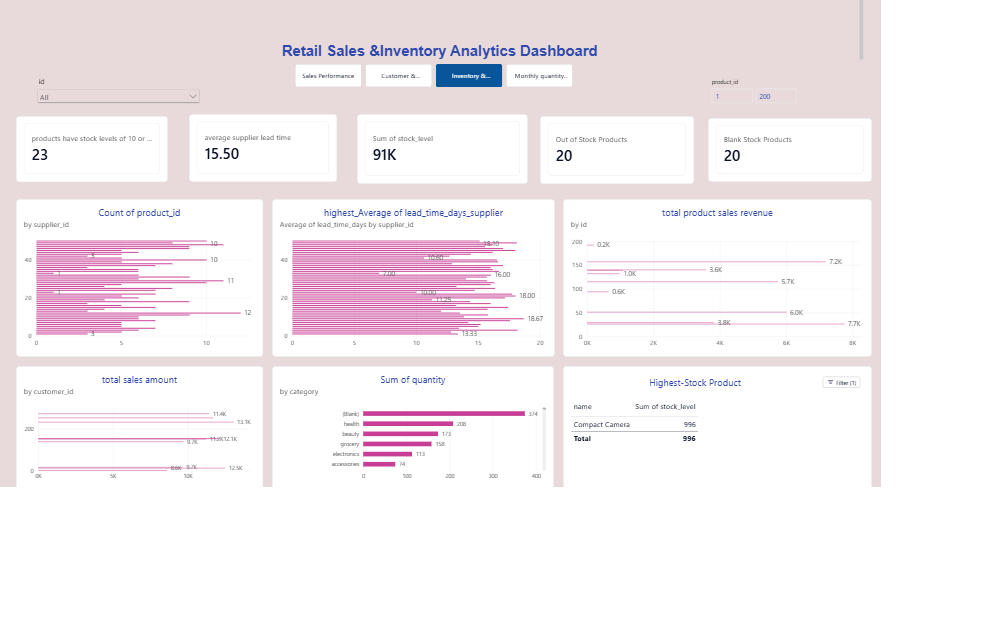

The dashboard page shown, as its layout file describes it:
{"tool":"powerbi","page":{"name":"Inventory & Supplier Performance:","canvas":[1920,1080],"ordinal":2},"visuals":[{"type":"textbox","box":[36.7,0,1829.5,159.8],"z":0},{"type":"clusteredBarChart","fields":{"Category":["Product_supplier.supplier_id"],"Y":["CountNonNull(Product_supplier.product_id)"]},"box":[36.7,451.4,533.5,341.3],"z":1000},{"type":"clusteredBarChart","title":"highest_Average of lead_time_days_supplier","fields":{"Category":["Product_supplier.supplier_id"],"Y":["Avg(Product_supplier.lead_time_days)"]},"box":[589.7,451.4,611.3,341.3],"z":2000},{"type":"clusteredBarChart","fields":{"Category":["Products.category"],"Y":["Sum(Order_items.quantity)"]},"box":[589.7,812.2,609.1,267.8],"z":3000},{"type":"clusteredBarChart","fields":{"Category":["Orders.customer_id"],"Y":["Orders.total sales amount"]},"box":[36.7,812.2,533.5,267.8],"z":4000},{"type":"clusteredBarChart","fields":{"Category":["Products.id"],"Y":["Order_items.total product sales revenue"]},"box":[1218.2,451.4,667.4,341.3],"z":5000},{"type":"cardVisual","fields":{"Data":["Products.products have stock levels of 10 or below"]},"box":[36.7,272.2,328.3,142.6],"z":6000},{"type":"slicer","fields":{"Values":["Suppliers.id"]},"box":[77.8,185.8,360.7,82.1],"z":7000},{"type":"pageNavigator","box":[639.4,159.8,600,50],"z":8000},{"type":"cardVisual","fields":{"Data":["Product_supplier.average supplier lead time"]},"box":[410.4,267.8,319.7,146.9],"z":9000},{"type":"cardVisual","fields":{"Data":["Sum(Products.stock_level)"]},"box":[773.3,267.8,369.4,151.2],"z":10000},{"type":"cardVisual","fields":{"Data":["Products.Out of Stock Products"]},"box":[1168.6,272.2,332.6,146.9],"z":11000},{"type":"tableEx","title":"Highest-Stock Product","fields":{"Values":["Products.name","Sum(Products.stock_level)"]},"box":[1218.2,812.2,667.4,267.8],"z":12000},{"type":"cardVisual","fields":{"Data":["Products.Blank Stock Products"]},"box":[1531.4,276.5,354.2,138.2],"z":12001},{"type":"slicer","fields":{"Values":["Product_supplier.product_id"]},"box":[1531.4,190.1,299.8,75],"z":12002}]}

Visuals, with their boxes on the page's 1920x1080 design canvas (x1, y1, x2, y2). These are canvas units, not pixel positions in the 993x632 screenshot, which may show the page scaled, cropped or inside an application window:
textbox: [left=37, top=0, right=1866, bottom=160]
clusteredBarChart - Product_supplier.supplier_id x CountNonNull(Product_supplier.product_id): [left=37, top=451, right=570, bottom=793]
"highest_Average of lead_time_days_supplier" clusteredBarChart: [left=590, top=451, right=1201, bottom=793]
clusteredBarChart - Products.category x Sum(Order_items.quantity): [left=590, top=812, right=1199, bottom=1080]
clusteredBarChart - Orders.customer_id x Orders.total sales amount: [left=37, top=812, right=570, bottom=1080]
clusteredBarChart - Products.id x Order_items.total product sales revenue: [left=1218, top=451, right=1886, bottom=793]
cardVisual - Products.products have stock levels of 10 or below: [left=37, top=272, right=365, bottom=415]
slicer - Suppliers.id: [left=78, top=186, right=438, bottom=268]
pageNavigator: [left=639, top=160, right=1239, bottom=210]
cardVisual - Product_supplier.average supplier lead time: [left=410, top=268, right=730, bottom=415]
cardVisual - Sum(Products.stock_level): [left=773, top=268, right=1143, bottom=419]
cardVisual - Products.Out of Stock Products: [left=1169, top=272, right=1501, bottom=419]
"Highest-Stock Product" tableEx: [left=1218, top=812, right=1886, bottom=1080]
cardVisual - Products.Blank Stock Products: [left=1531, top=276, right=1886, bottom=415]
slicer - Product_supplier.product_id: [left=1531, top=190, right=1831, bottom=265]
